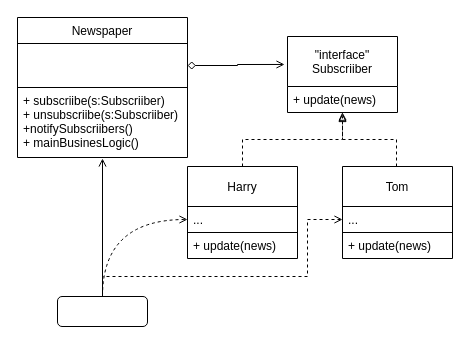
Image size: 470x344. Some labels were removed from this diagram. The centre of each missing label's shape, as x and y in pixels:
"- subscriibers: Subscriber[] - mainState" belongs at pixel 102 65.
"Client" belongs at pixel 102 311.
